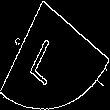L_NE: (36, 25, 74, 85)
